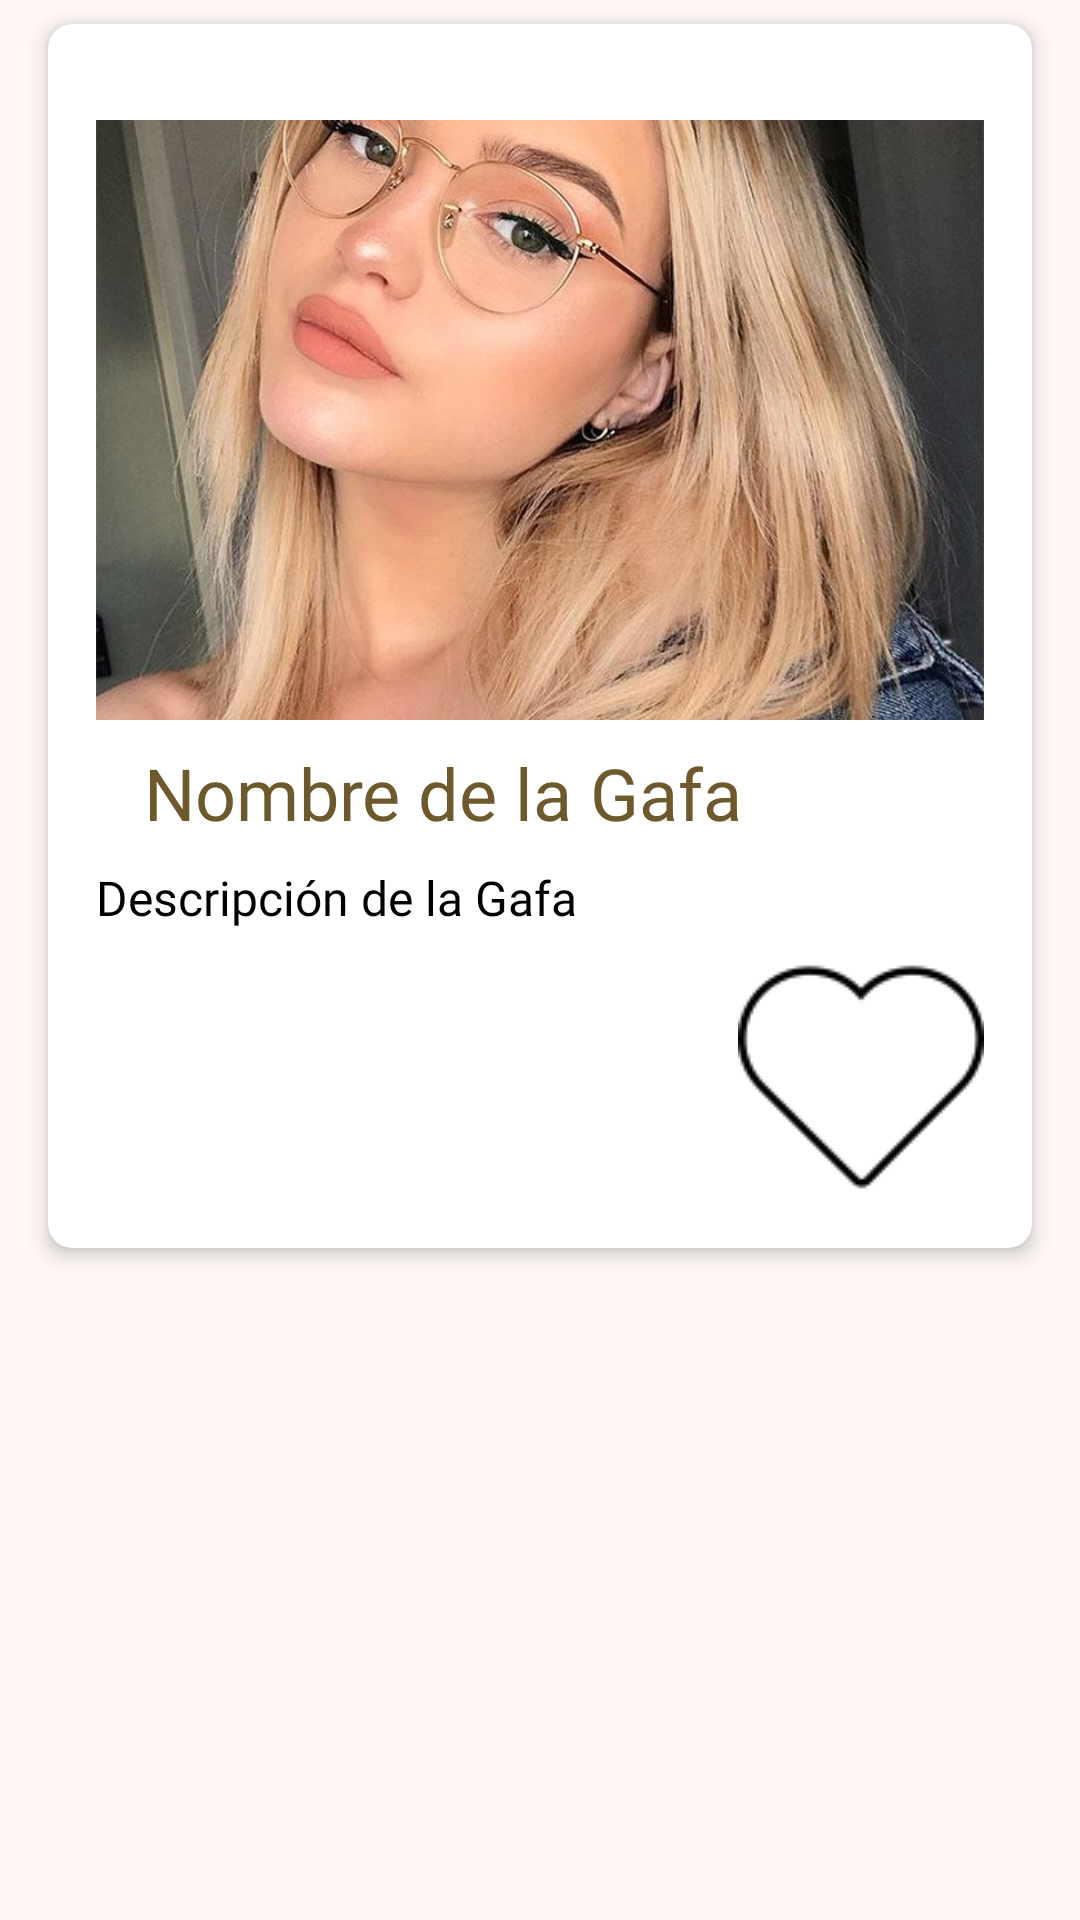

Icon click points for this 1080w x 1920h phone screenshot, format (x,y):
favorite border: (861,1077)
